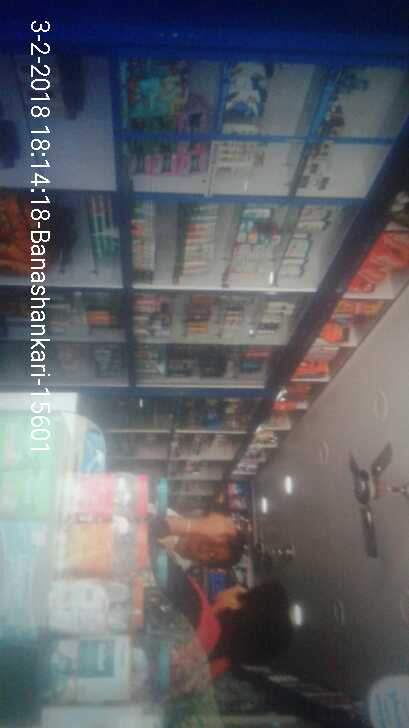beauty: (228, 58, 280, 83), (227, 88, 269, 104)
pharmacy: (130, 59, 183, 119), (176, 144, 207, 178), (144, 153, 181, 176)
